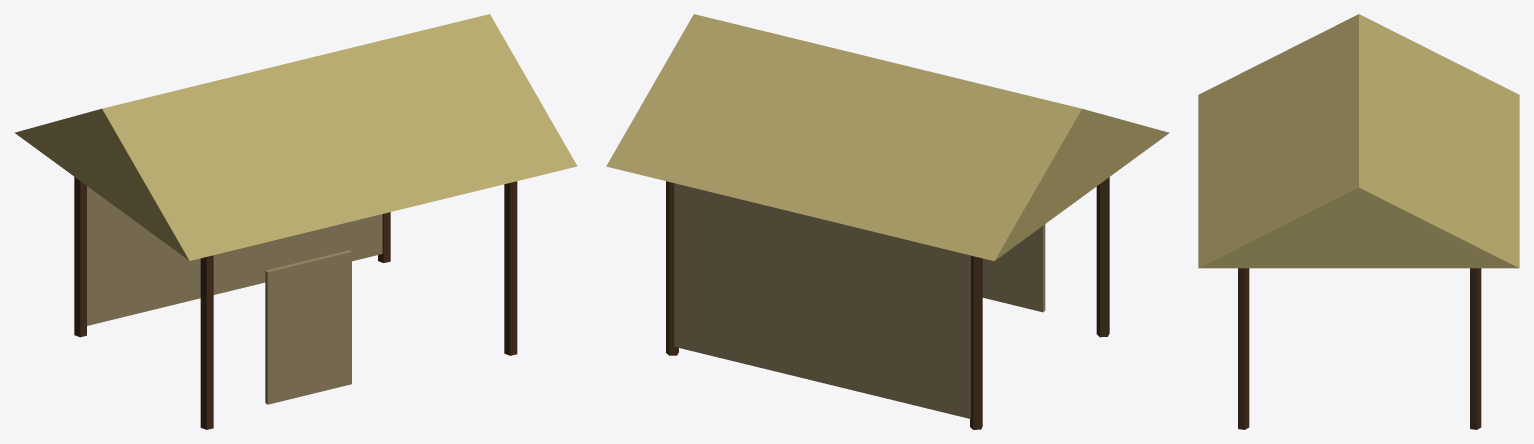
Rendered from shack_b.glb.
3 renders of one model, left to right at view 1: azimuth 30°, elevation 25°; view 2: azimuth 150°, elevation 25°; view 3: azimuth 270°, elevation 25°, orthographic. The views are drawn at different scales.
Visible parts, largest first — view 1: shack_b; view 2: shack_b; view 3: shack_b.
Part boxes in pixels (bbox=[...]): shack_b: bbox=[14, 14, 577, 429]; shack_b: bbox=[606, 14, 1169, 429]; shack_b: bbox=[1198, 14, 1519, 429].
Bounding box in the file's own units: 4.6 × 3.2 × 3.6.
